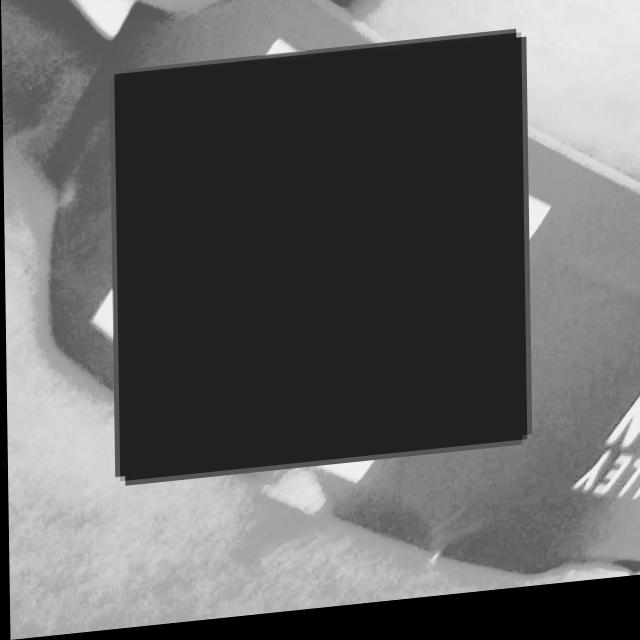qr_code: (113, 44, 525, 484)
